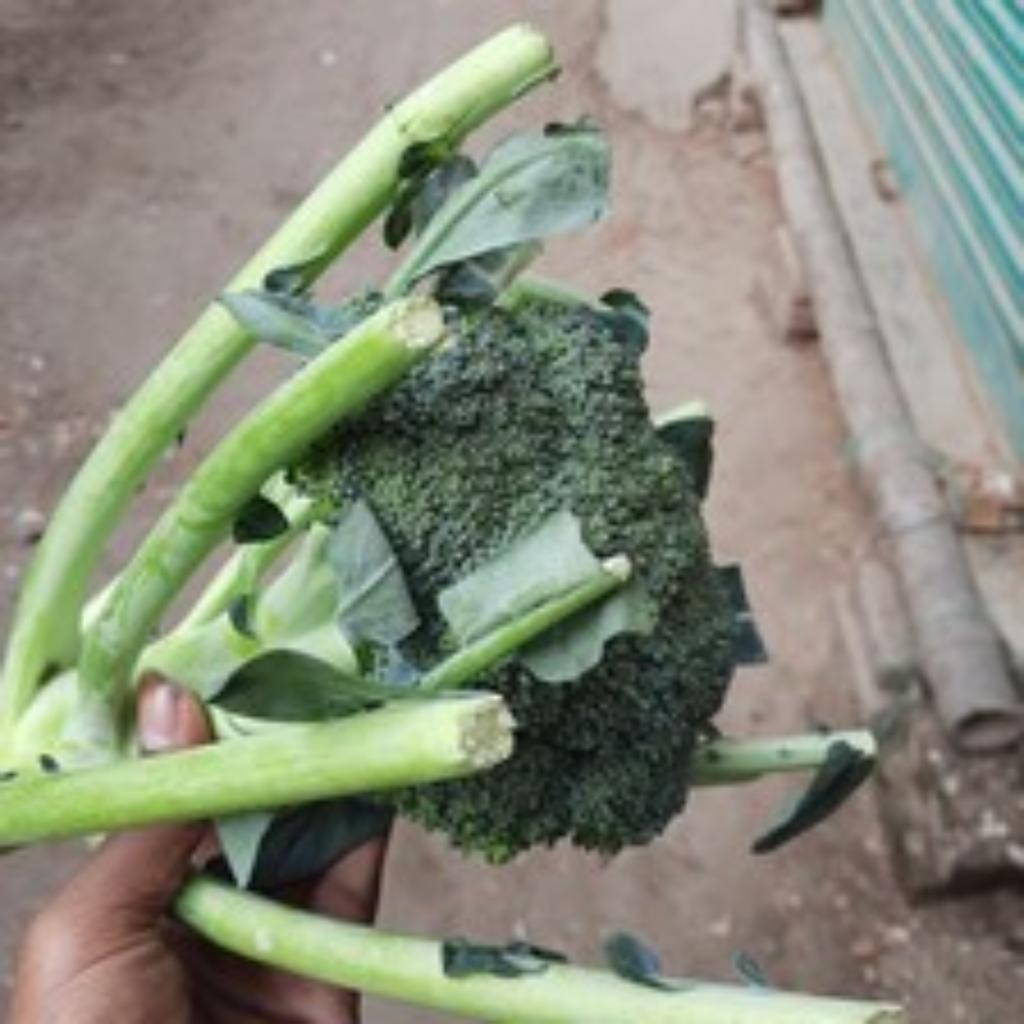Broccoli: (300, 296, 730, 859), (302, 294, 730, 859)
